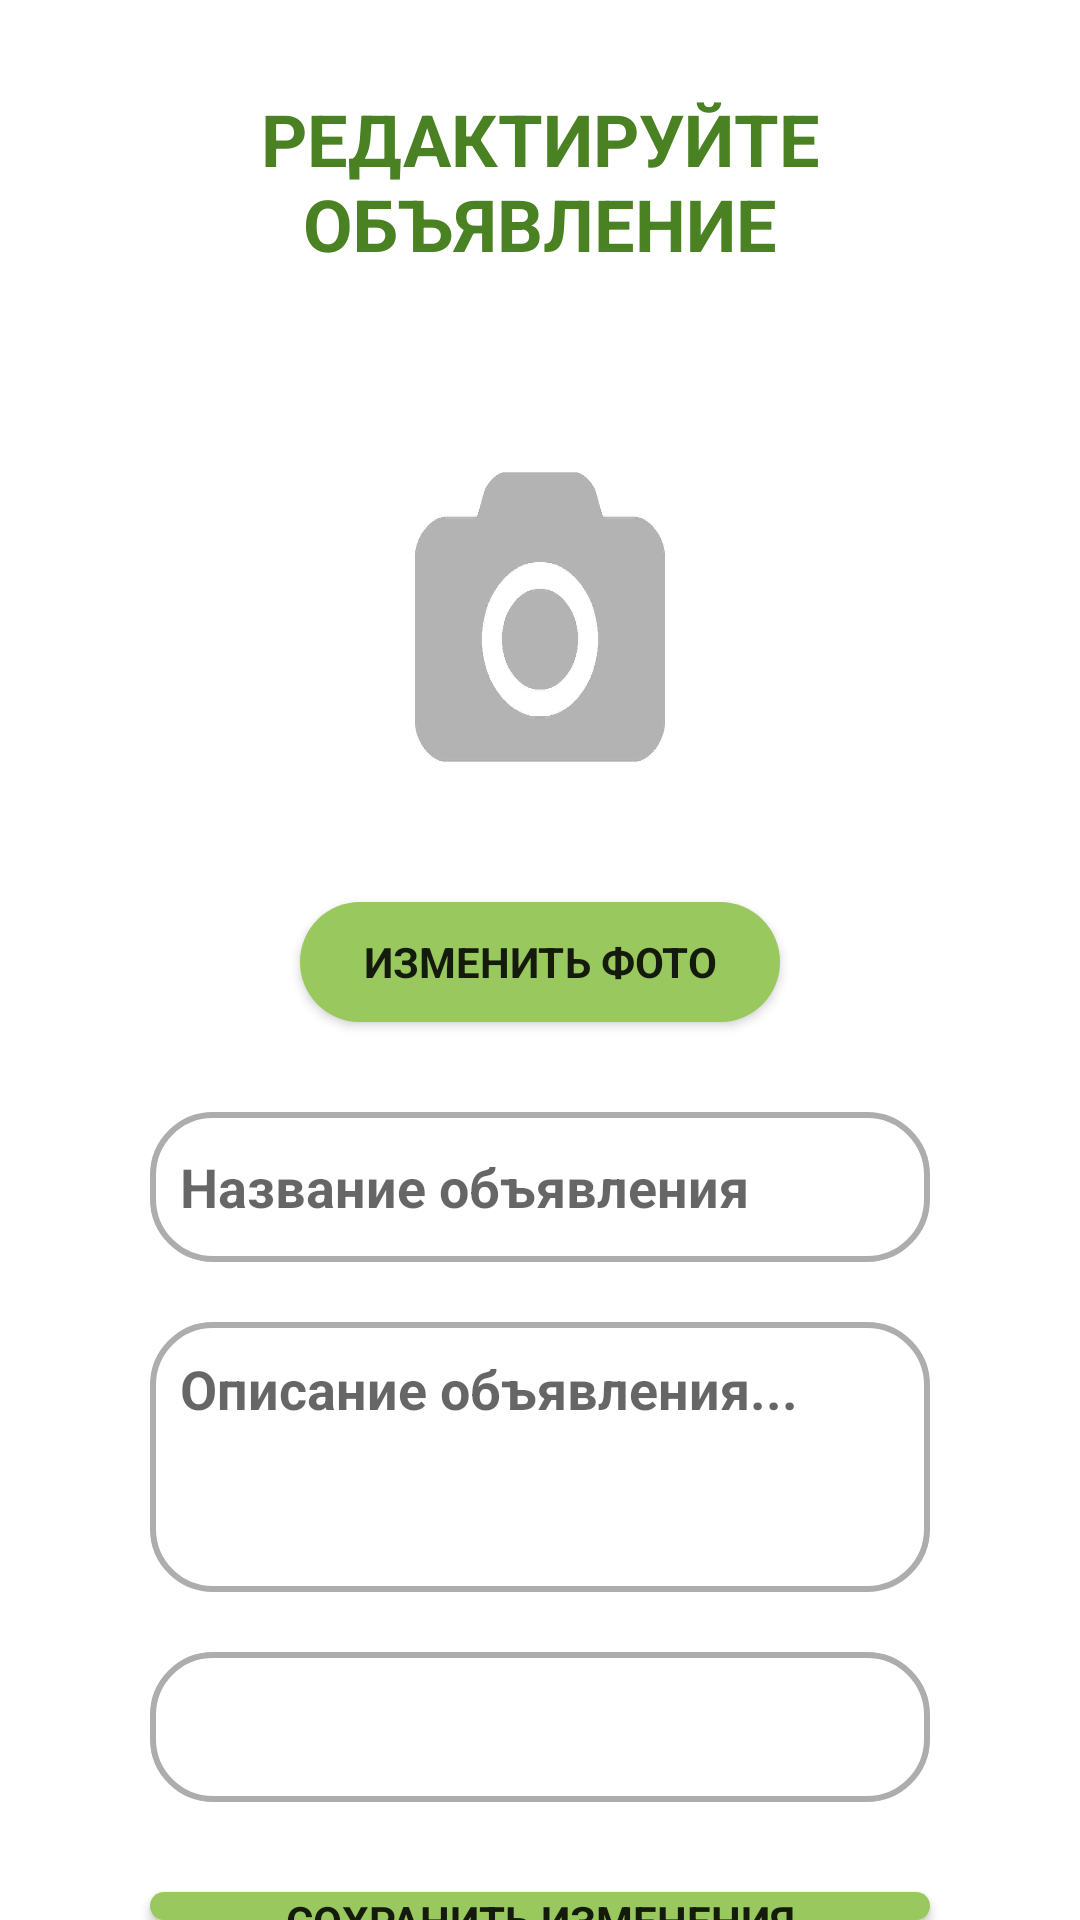

Locate icon controls on the screen. Image size 1080px x 1920px, boxes as {"left": x1, "top": y1, "right": x2, "bottom": y2}.
add photo: {"left": 415, "top": 472, "right": 665, "bottom": 762}
